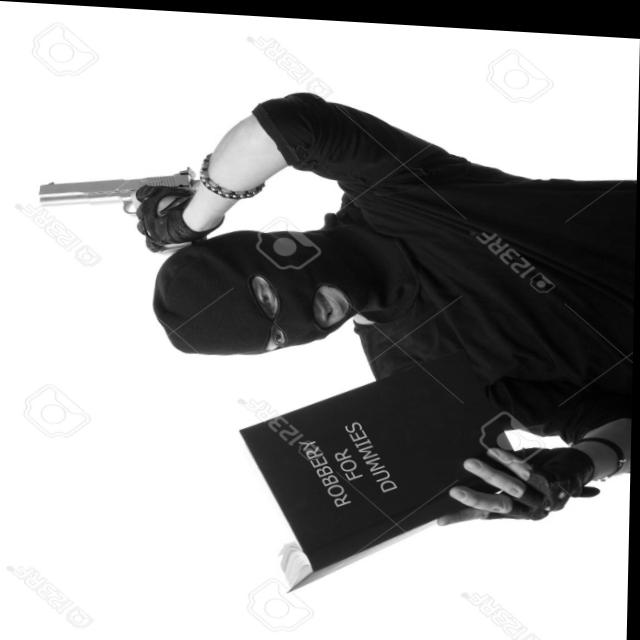handgun: (31, 159, 207, 253)
